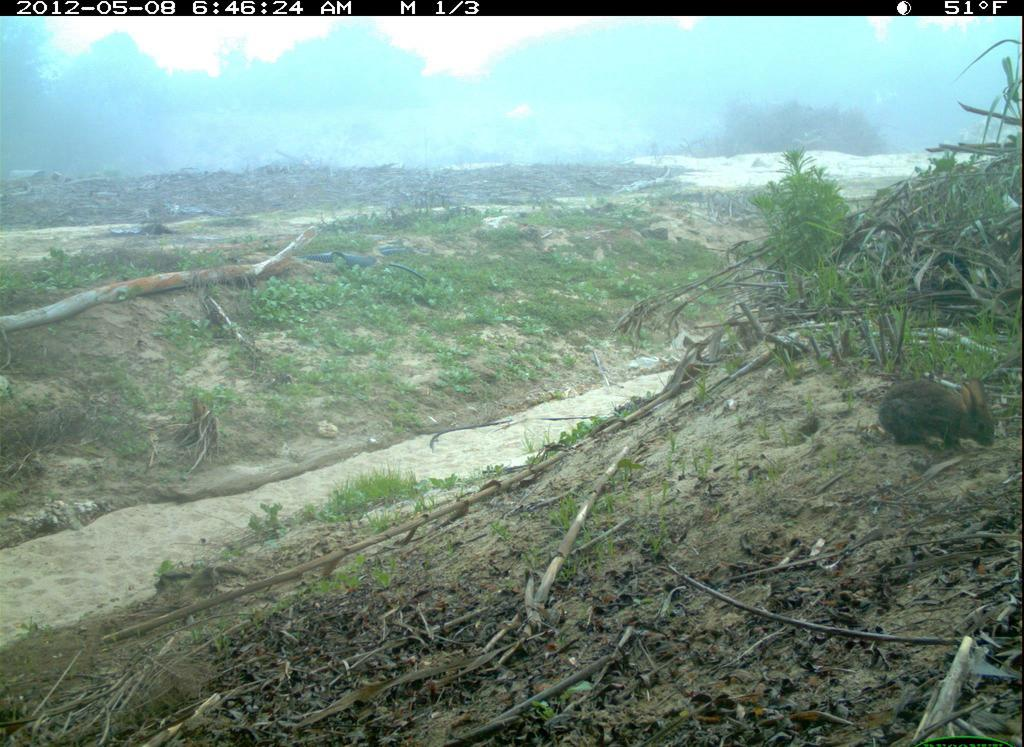rabbit: (875, 372, 1003, 461)
